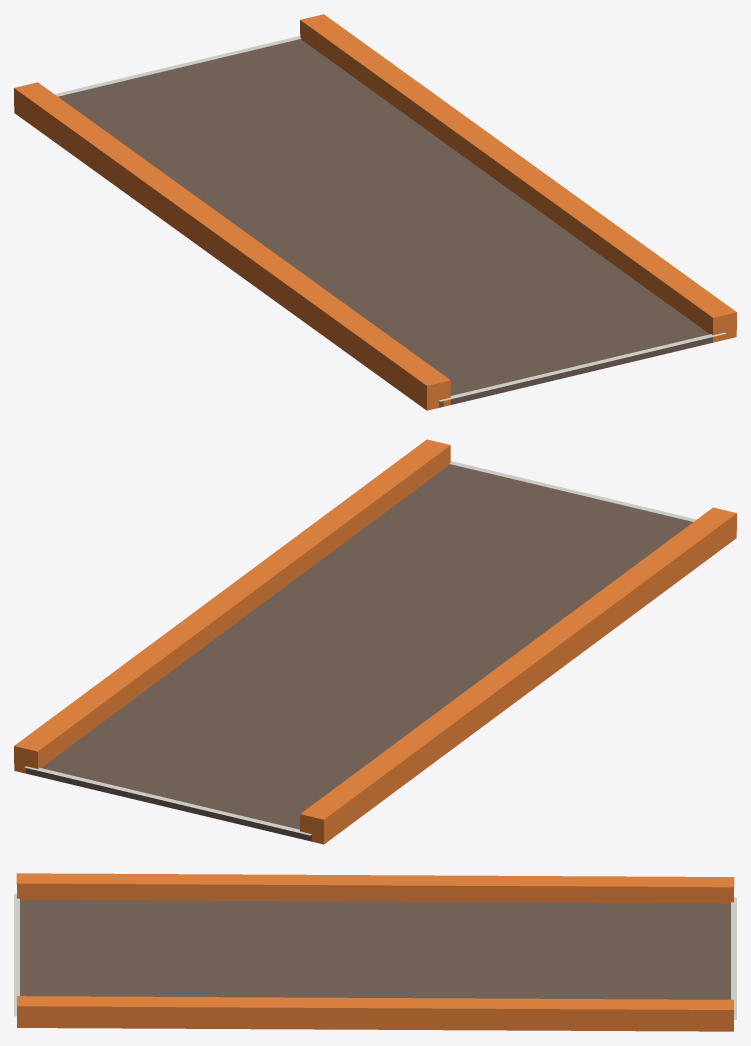
Rendered from SM_MP_Film_B_4_3.fbx.
The picture shows the model from 3 angles, top to bottom: view 1: azimuth 30°, elevation 25°; view 2: azimuth 150°, elevation 25°; view 3: azimuth 270°, elevation 25°; orthographic projection. The views are drawn at different scales.
Visible parts, largest first — view 1: SM_MP_Film_B_4_3; view 2: SM_MP_Film_B_4_3; view 3: SM_MP_Film_B_4_3.
Part boxes in pixels (x1,y1,x2,y2): SM_MP_Film_B_4_3: (14,14,736,410); SM_MP_Film_B_4_3: (14,439,736,844); SM_MP_Film_B_4_3: (14,873,736,1031).
Size of what is drawn, in the model's own units: 260 by 605 by 24.97.
